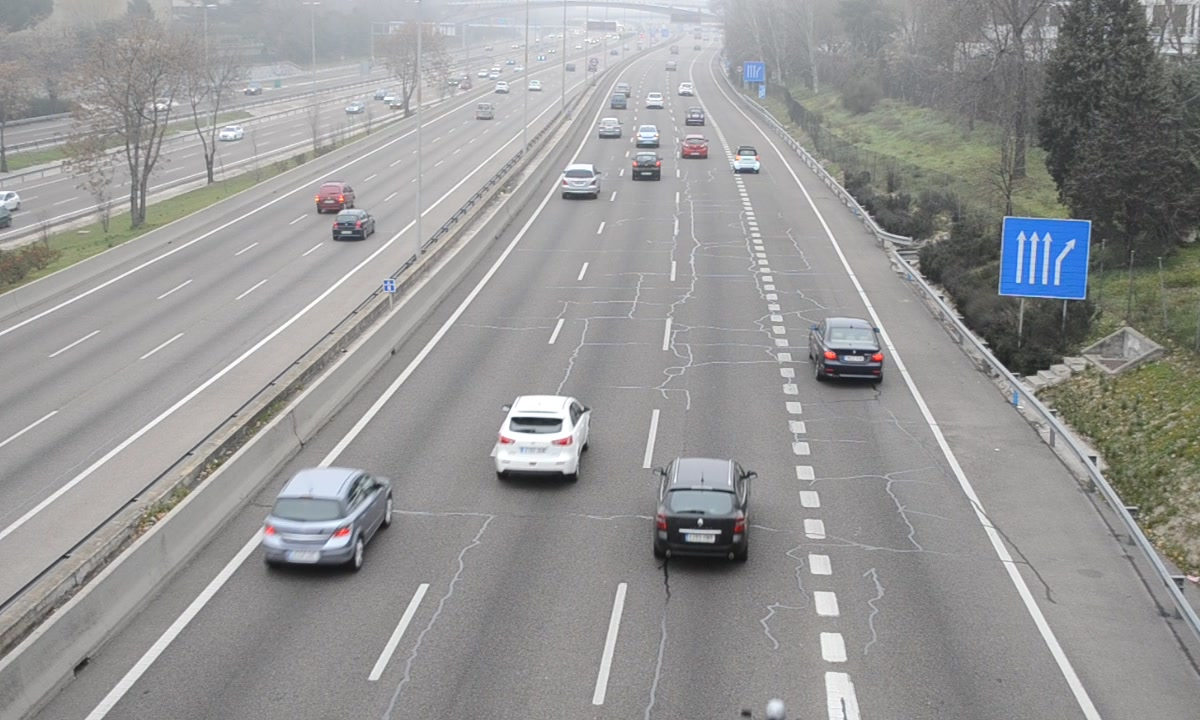car: (257, 470, 391, 570), (652, 456, 751, 564), (493, 395, 593, 480), (809, 317, 888, 388), (560, 164, 601, 201), (632, 151, 662, 182), (732, 144, 761, 174), (682, 135, 710, 160), (635, 124, 661, 150), (597, 117, 623, 141)
